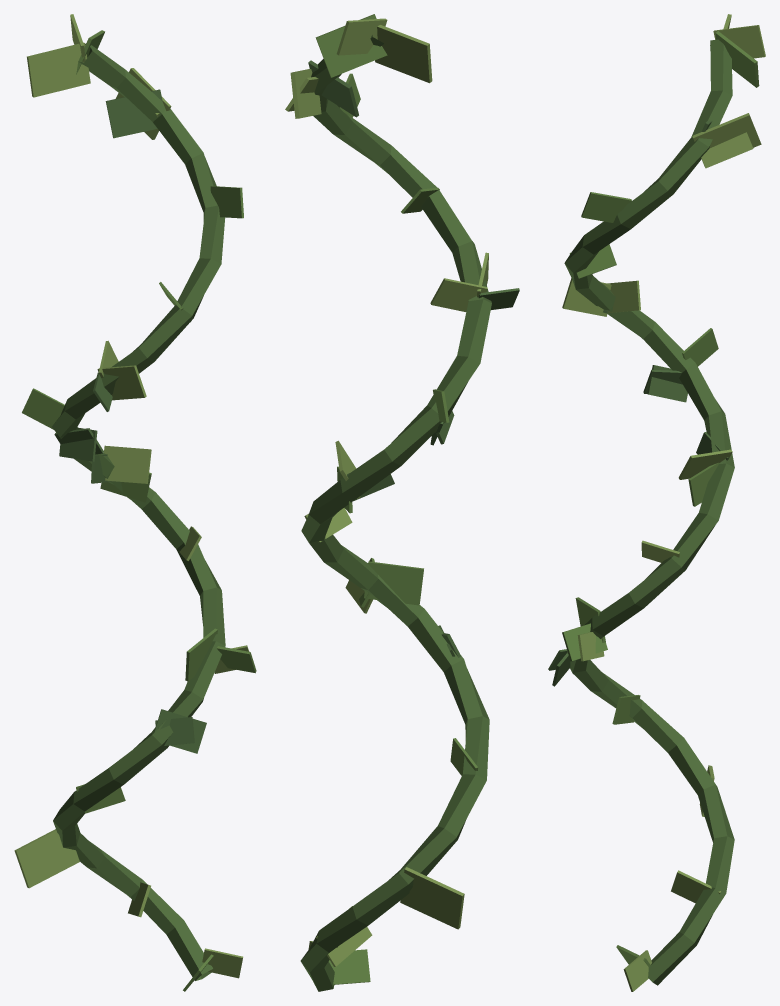
File: VN_PostWrap.glb
The picture shows the model from 3 angles, left to right: view 1: azimuth 30°, elevation 25°; view 2: azimuth 150°, elevation 25°; view 3: azimuth 270°, elevation 25°; orthographic projection. The views are drawn at different scales.
Parts seen in each view (by area): view 1: VN_PostWrap; view 2: VN_PostWrap; view 3: VN_PostWrap.
Boxes of the visible parts, <box> form: VN_PostWrap: <box>14,14,256,991</box>; VN_PostWrap: <box>285,14,519,991</box>; VN_PostWrap: <box>548,14,765,991</box>.
Size of the model in its own units: 0.6741 by 3.3 by 0.7072.
